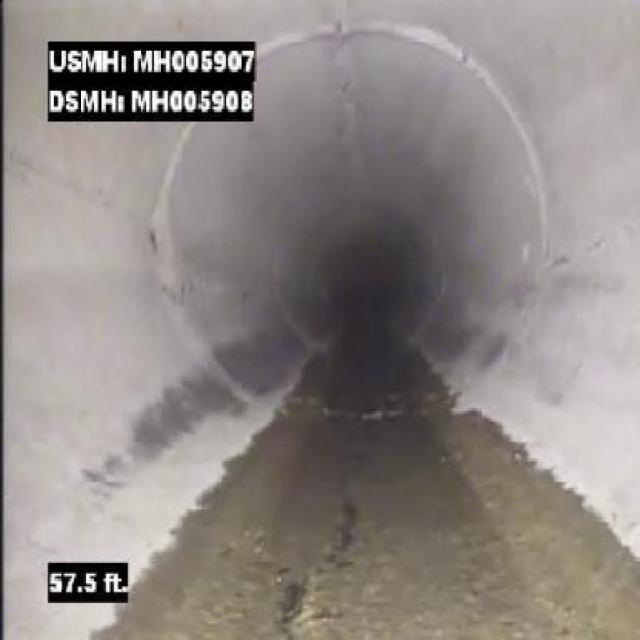Crack: (328, 429, 378, 548), (331, 25, 372, 152), (552, 243, 623, 283)
Hole: (259, 548, 383, 635)
